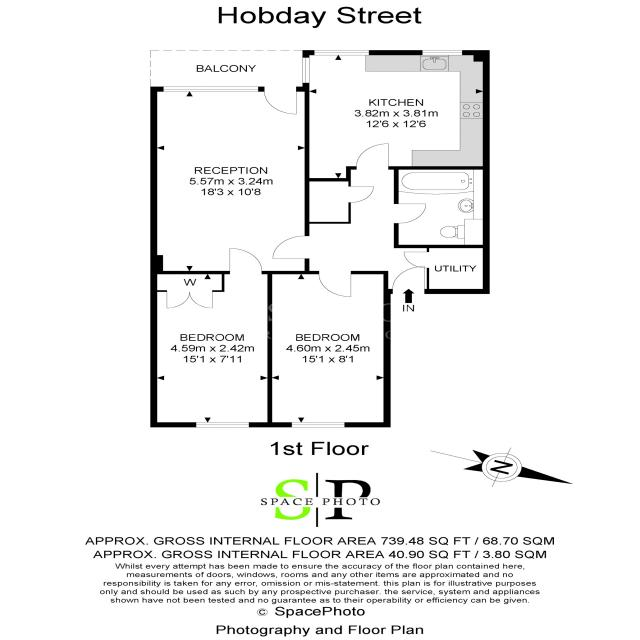DOOR: (316, 271, 354, 299), (353, 141, 391, 169), (263, 86, 297, 115), (391, 266, 426, 294), (272, 235, 310, 260), (229, 248, 263, 274), (394, 202, 429, 226)
ROOM: (150, 86, 310, 274), (302, 50, 490, 181), (152, 244, 274, 428), (268, 271, 391, 427)
WINDOW: (163, 86, 259, 92), (193, 421, 251, 428), (289, 421, 346, 428), (313, 49, 370, 56), (300, 56, 312, 84), (421, 49, 465, 56)
